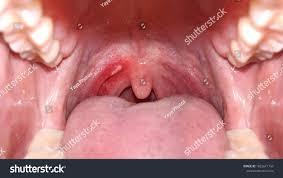Ulcer: (130, 67, 155, 90)
